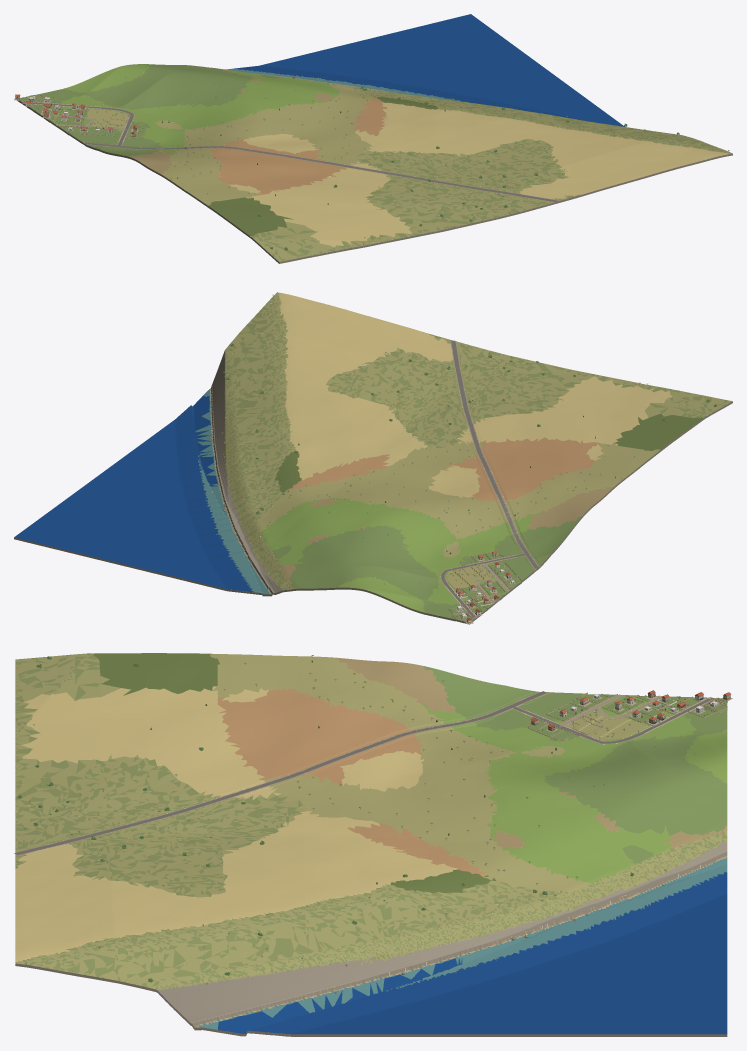
Rendered from parca_+11_+0-yakin.glb.
3 renders of one model, top to bottom at view 1: azimuth 30°, elevation 25°; view 2: azimuth 150°, elevation 25°; view 3: azimuth 270°, elevation 25°, orthographic. The views are drawn at different scales.
Visible parts, largest first — view 1: parca_+11_+0_arazi, parca_+11_+0_yollar, parca_+11_+0_bitkiler, parca_+11_+0_duvarlar, parca_+11_+0_yapilar; view 2: parca_+11_+0_arazi, parca_+11_+0_yollar, parca_+11_+0_bitkiler, parca_+11_+0_duvarlar, parca_+11_+0_yapilar; view 3: parca_+11_+0_arazi, parca_+11_+0_yollar, parca_+11_+0_bitkiler, parca_+11_+0_duvarlar, parca_+11_+0_yapilar.
Boxes of the visible parts, x1,y1,x2,y2 form: parca_+11_+0_arazi: (17, 14, 732, 263); parca_+11_+0_yollar: (22, 101, 557, 202); parca_+11_+0_bitkiler: (27, 74, 729, 260); parca_+11_+0_duvarlar: (20, 95, 147, 138); parca_+11_+0_yapilar: (14, 94, 138, 137); parca_+11_+0_arazi: (14, 292, 732, 624); parca_+11_+0_yollar: (441, 340, 538, 618); parca_+11_+0_bitkiler: (221, 294, 725, 618); parca_+11_+0_duvarlar: (448, 552, 521, 621); parca_+11_+0_yapilar: (454, 551, 515, 624); parca_+11_+0_arazi: (15, 653, 727, 1036); parca_+11_+0_yollar: (14, 691, 714, 854); parca_+11_+0_bitkiler: (16, 655, 723, 984); parca_+11_+0_duvarlar: (528, 693, 727, 740); parca_+11_+0_yapilar: (531, 690, 732, 732).
Size of the model in its own units: 1010 by 136 by 1010.
